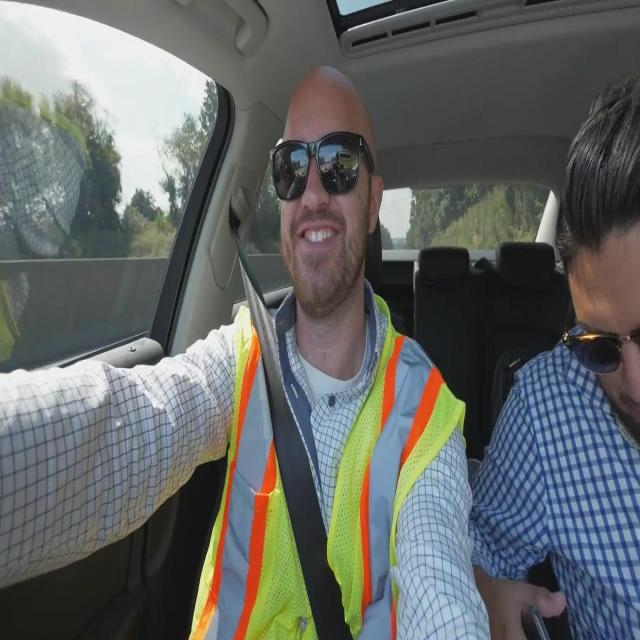reflective_jacket: (181, 301, 463, 639)
